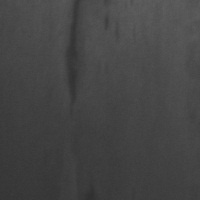inclusion: (63, 1, 93, 121), (100, 9, 125, 44), (77, 164, 98, 199)
